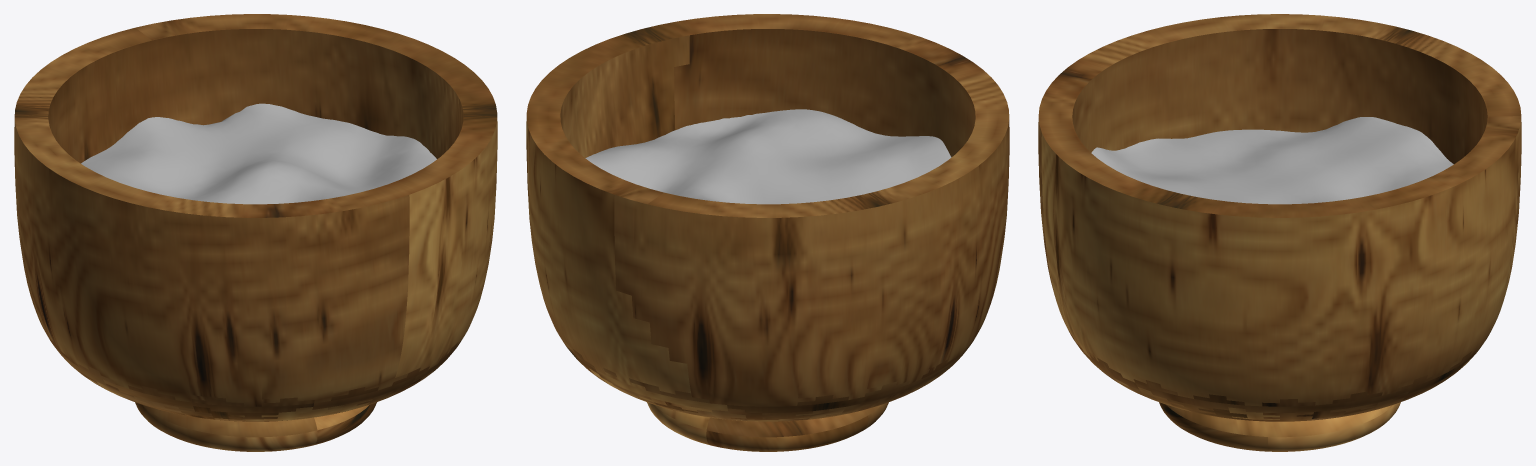
File: Eye_result.fbx
3 views of the same model, side by side, from view 1: azimuth 30°, elevation 25°; view 2: azimuth 150°, elevation 25°; view 3: azimuth 270°, elevation 25° (orthographic).
Visible parts, largest first — view 1: tar, Plane; view 2: tar, Plane; view 3: tar, Plane.
Part boxes in pixels (x1,y1,x2,y2): tar: [14, 14, 497, 451]; Plane: [81, 103, 436, 204]; tar: [526, 14, 1009, 451]; Plane: [585, 109, 951, 204]; tar: [1038, 14, 1521, 451]; Plane: [1091, 117, 1453, 204].
Bounding box in the file's own units: 1434 × 950 × 1434.
Materials: 2 (1 with a texture image).
